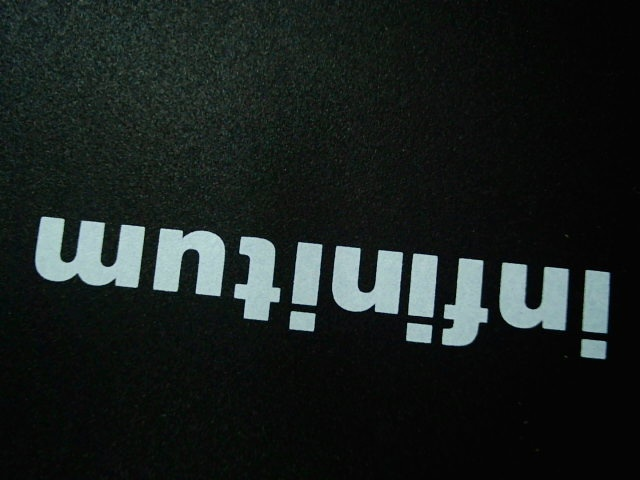BK_infinitum: (23, 201, 616, 364)
